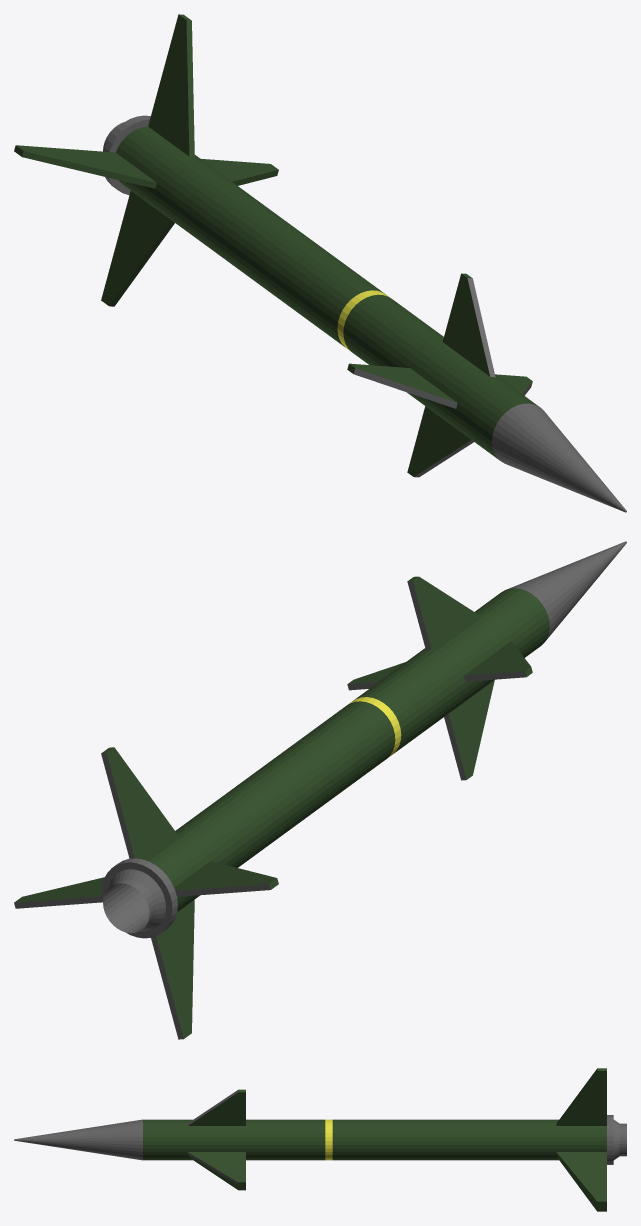
Rendered from missile.obj.
3 views of the same model, one above another, from view 1: azimuth 30°, elevation 25°; view 2: azimuth 150°, elevation 25°; view 3: azimuth 270°, elevation 25° (orthographic). The views are drawn at different scales.
Visible parts, largest first — view 1: missile; view 2: missile; view 3: missile.
Part boxes in pixels (x1,y1,x2,y2): missile: (14,14,626,512); missile: (14,541,626,1039); missile: (14,1068,626,1211).
Size of the model in its own units: 4.44 by 4.44 by 14.95.
1 material, 1 textured.
